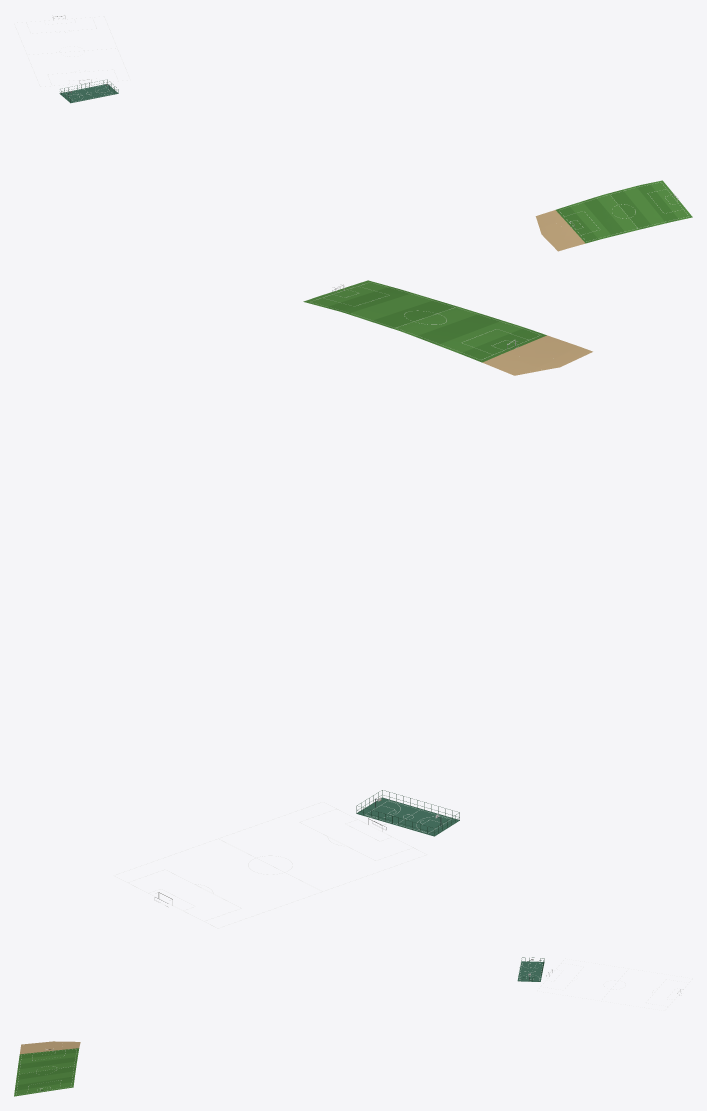
The picture shows the model from 3 angles, top to bottom: view 1: azimuth 30°, elevation 25°; view 2: azimuth 150°, elevation 25°; view 3: azimuth 270°, elevation 25°; orthographic projection. The views are drawn at different scales.
Parts seen in each view (by area): view 1: sports-w354213061, sports-basketball; view 2: sports-w354213061, sports-basketball; view 3: sports-w354213061, sports-basketball.
Part boxes in pixels (bbox=[...]): sports-w354213061: bbox=[535, 180, 692, 251]; sports-basketball: bbox=[59, 79, 118, 103]; sports-w354213061: bbox=[303, 280, 592, 375]; sports-basketball: bbox=[356, 790, 459, 836]; sports-w354213061: bbox=[14, 1041, 80, 1096]; sports-basketball: bbox=[517, 957, 544, 981].
Bounding box in the file's own units: 240 × 16.16 × 458.
